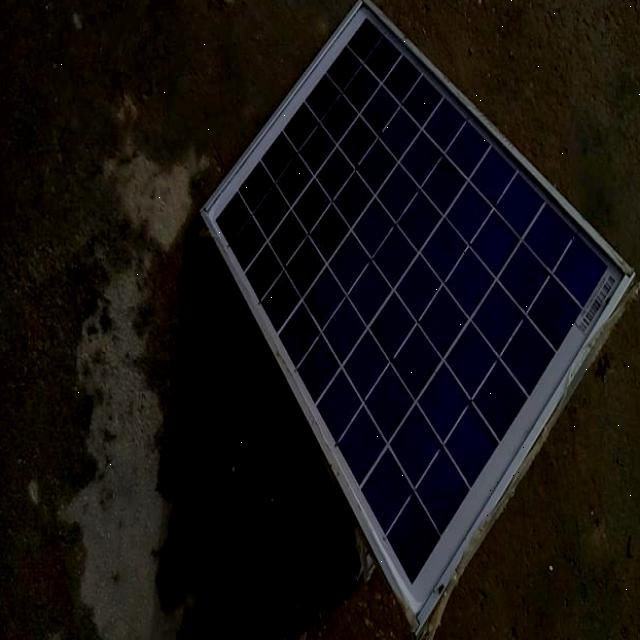Normal Solar Panel: (201, 0, 638, 640)
